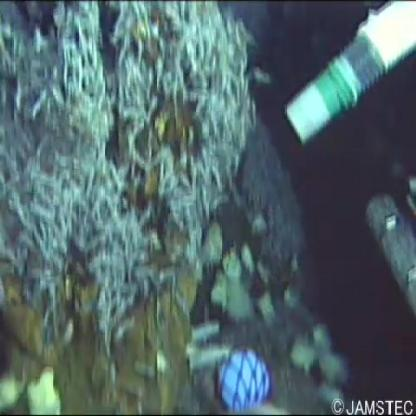Bio: (3, 1, 253, 311)
Rov: (279, 1, 413, 157)
